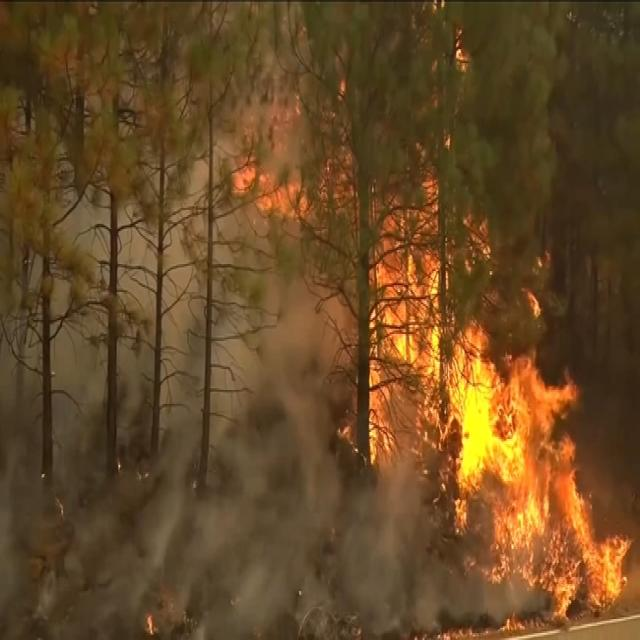fire: (463, 365, 576, 547), (584, 533, 630, 611)
